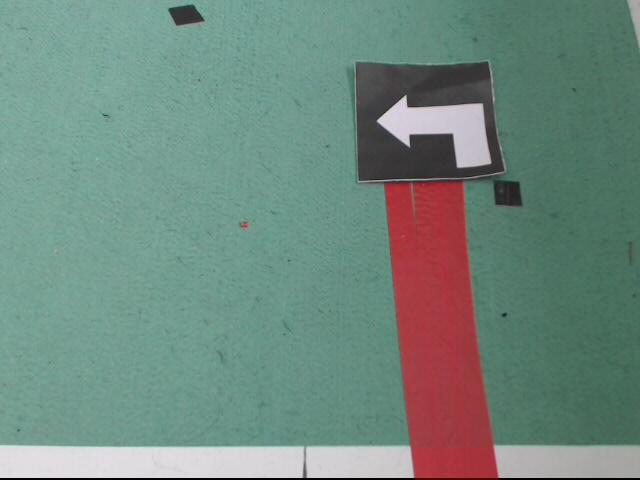left: (354, 60, 510, 184)
